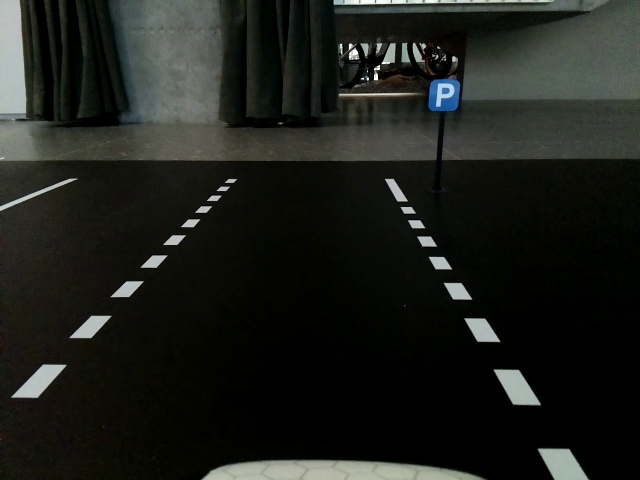park: (429, 81, 462, 111)
